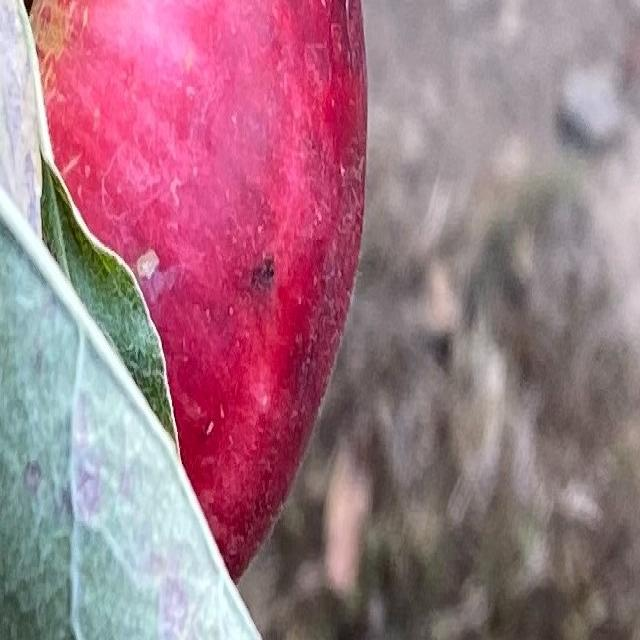100-_ripeness: (30, 0, 367, 574)
